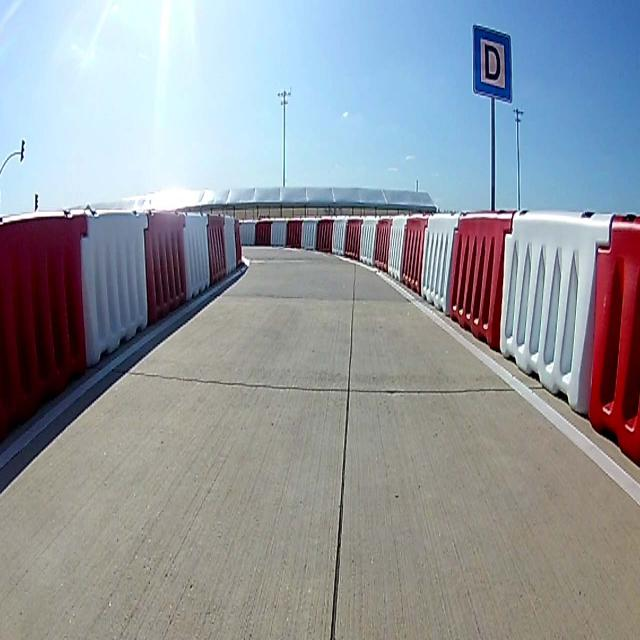durak: (473, 23, 511, 100)
